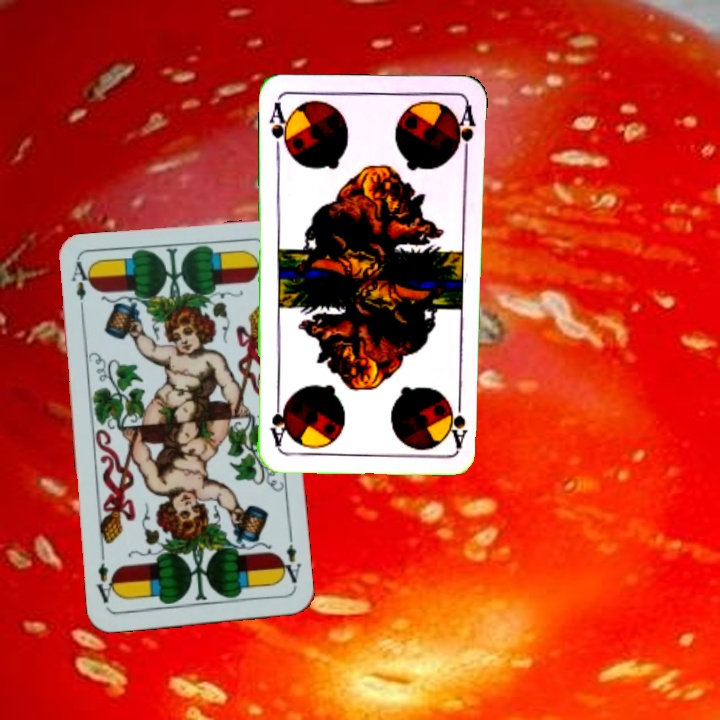EA: (67, 258, 94, 318), (275, 532, 303, 585)
SA: (265, 99, 292, 158), (450, 390, 471, 449)
